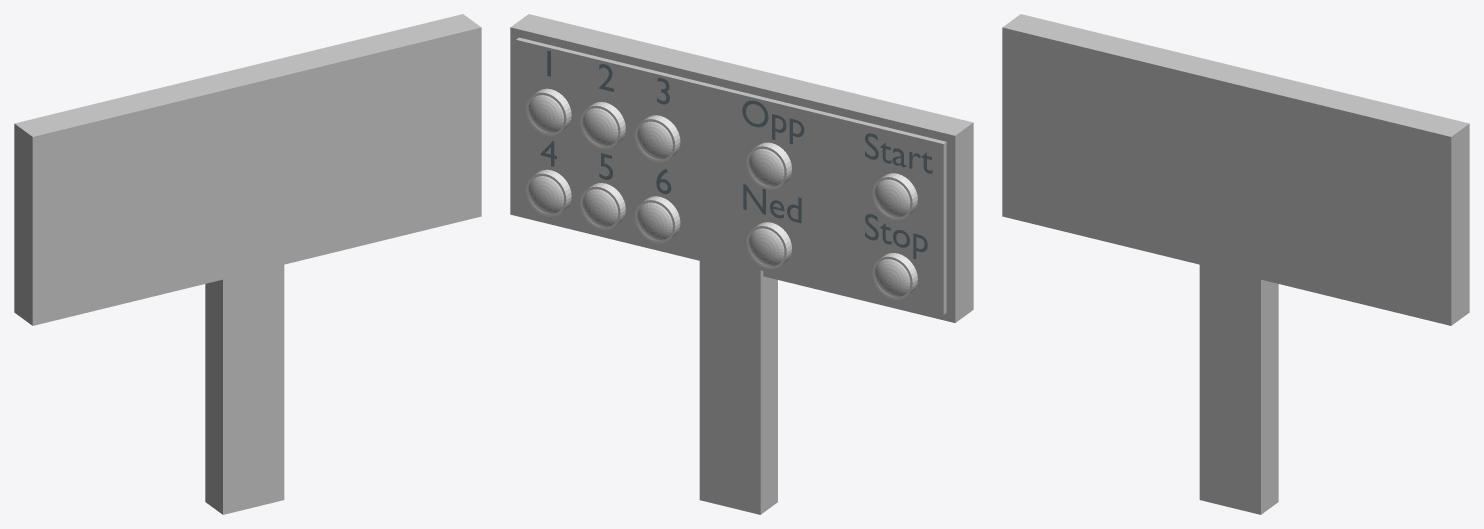
File: Controll.fbx
The picture shows the model from 3 angles, left to right: view 1: azimuth 30°, elevation 25°; view 2: azimuth 150°, elevation 25°; view 3: azimuth 330°, elevation 25°; orthographic projection.
Visible parts, largest first — view 1: Cube.002, Cube.001; view 2: Cube.000, Cube.002, Cube.001, Sphere.017, Sphere.016, Sphere.011, Sphere.012, Sphere.015, Sphere.014, Sphere.010, Sphere.019, Sphere.018 (+16 smaller); view 3: Cube.002, Cube.001.
Part boxes in pixels (<box>): Cube.002: <box>14,14,481,325</box>; Cube.001: <box>205,265,284,514</box>; Cube.000: <box>516,37,946,314</box>; Cube.002: <box>510,14,973,322</box>; Cube.001: <box>699,255,777,514</box>; Sphere.017: <box>582,189,618,227</box>; Sphere.016: <box>582,108,618,146</box>; Sphere.011: <box>874,259,910,297</box>; Sphere.012: <box>748,228,784,266</box>; Sphere.015: <box>637,121,672,159</box>; Sphere.014: <box>637,202,672,240</box>; Sphere.010: <box>874,179,910,217</box>; Sphere.019: <box>528,176,563,214</box>; Sphere.018: <box>528,95,563,133</box>; Cube.002: <box>1002,14,1469,325</box>; Cube.001: <box>1199,265,1278,514</box>.
Bounding box in the file's own units: 732 × 667 × 84.85.
